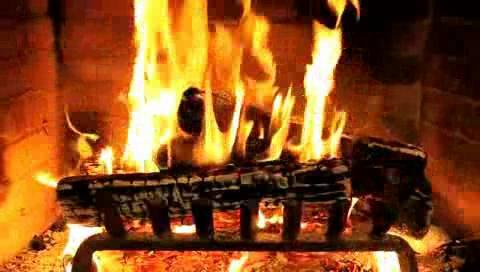fire: (83, 0, 415, 175)
